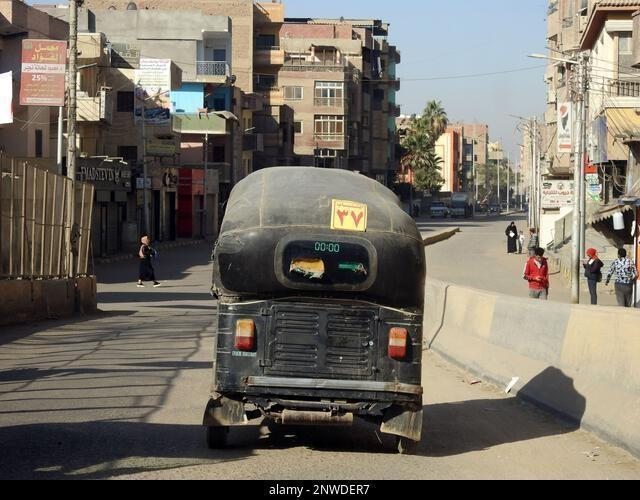keke: (200, 163, 432, 457)
